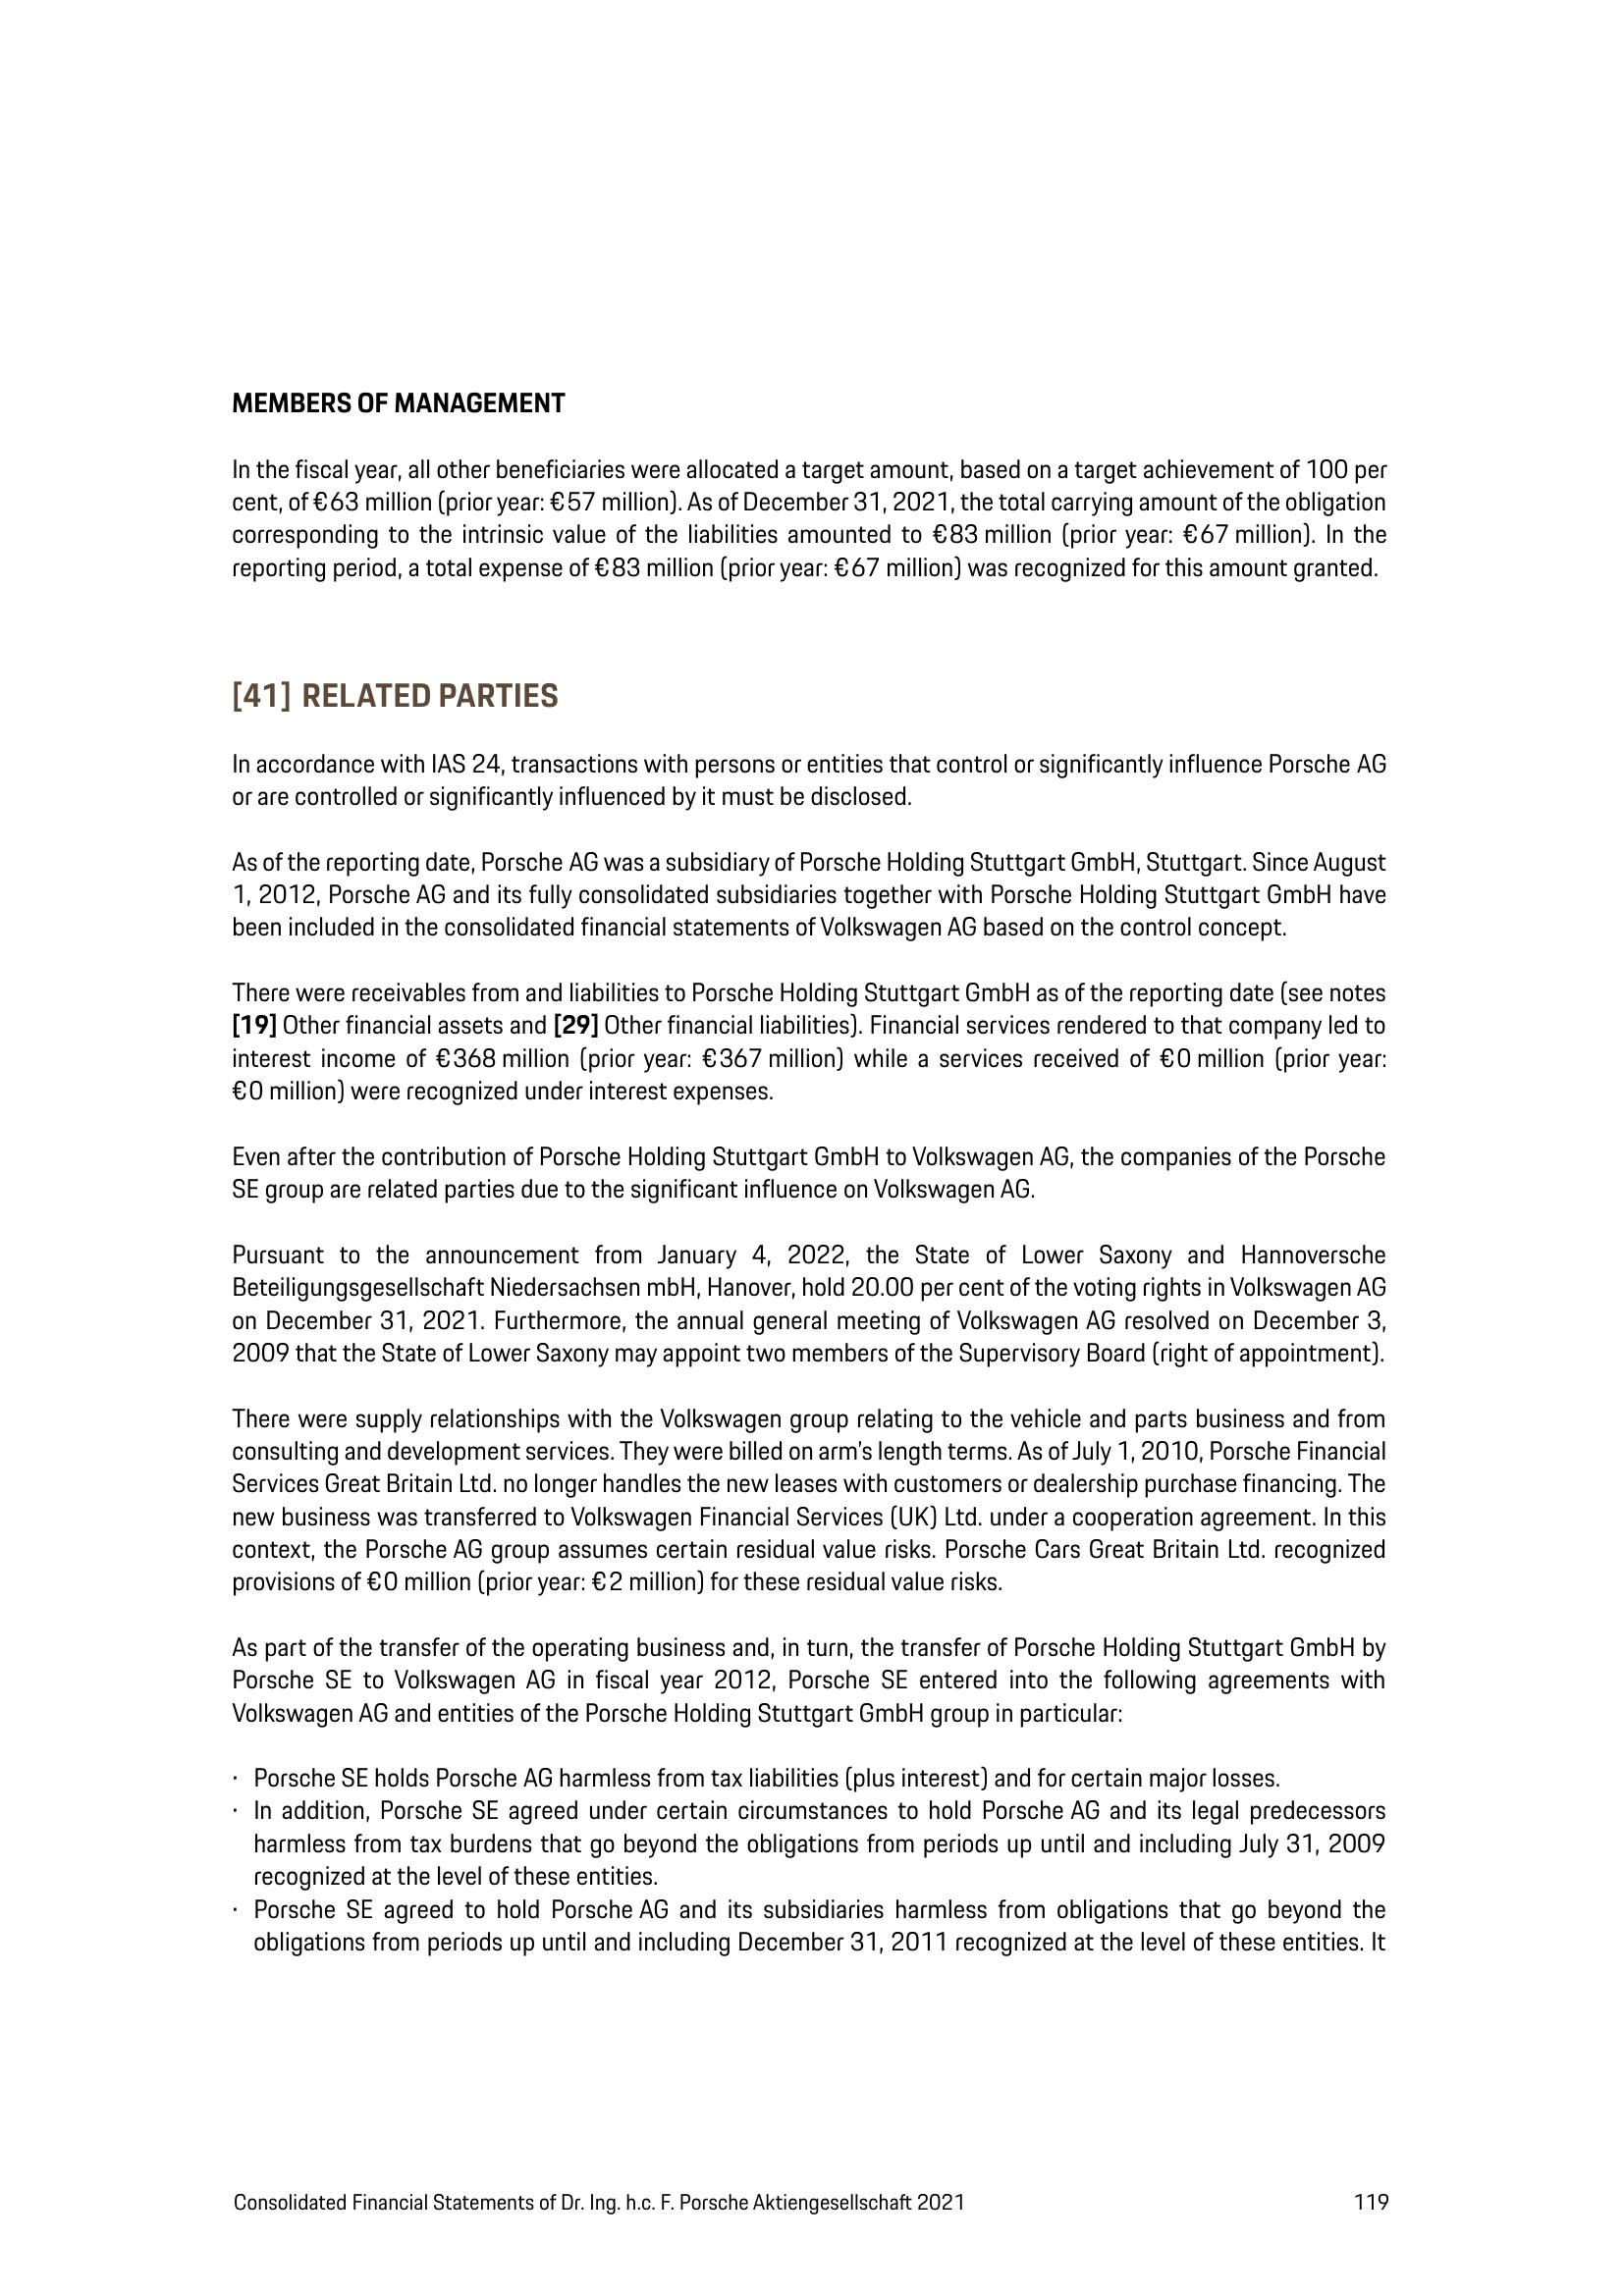Footer: (0, 2140, 1624, 2296)
Header: (0, 0, 1624, 232)
